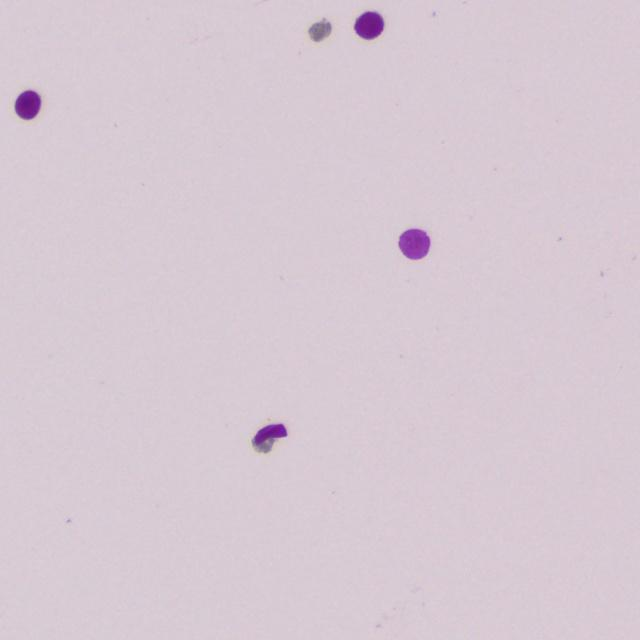viable: (399, 229, 429, 259), (355, 12, 383, 39), (15, 91, 40, 119)
